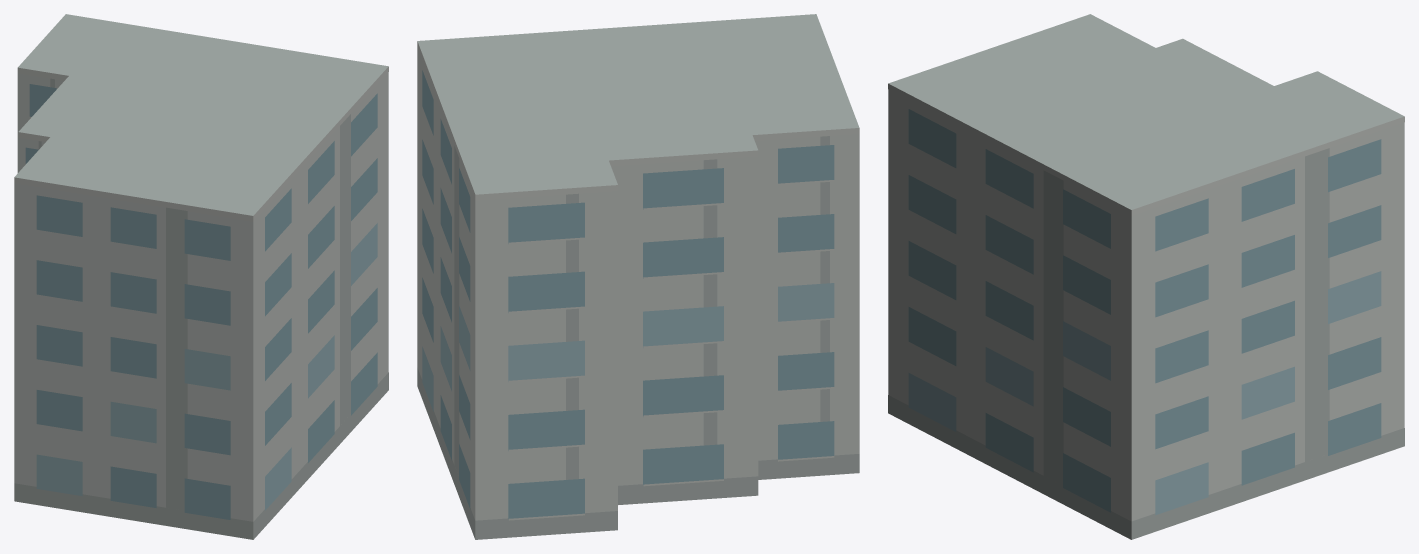
Rendered from residential-1ef3b824-9294-46f4-90c9-42a196569f0c.glb.
3 renders of one model, left to right at view 1: azimuth 30°, elevation 25°; view 2: azimuth 150°, elevation 25°; view 3: azimuth 270°, elevation 25°, orthographic. The views are drawn at different scales.
Parts seen in each view (by area): view 1: residential-1ef3b824-9294-46f4-90c9-42a196569f0c.tmp; view 2: residential-1ef3b824-9294-46f4-90c9-42a196569f0c.tmp; view 3: residential-1ef3b824-9294-46f4-90c9-42a196569f0c.tmp.
Part boxes in pixels (x1,y1,x2,y2): residential-1ef3b824-9294-46f4-90c9-42a196569f0c.tmp: (14,14,388,539); residential-1ef3b824-9294-46f4-90c9-42a196569f0c.tmp: (417,14,859,539); residential-1ef3b824-9294-46f4-90c9-42a196569f0c.tmp: (888,14,1404,539).
Size of the model in its own units: 17.61 by 13.8 by 19.6.
